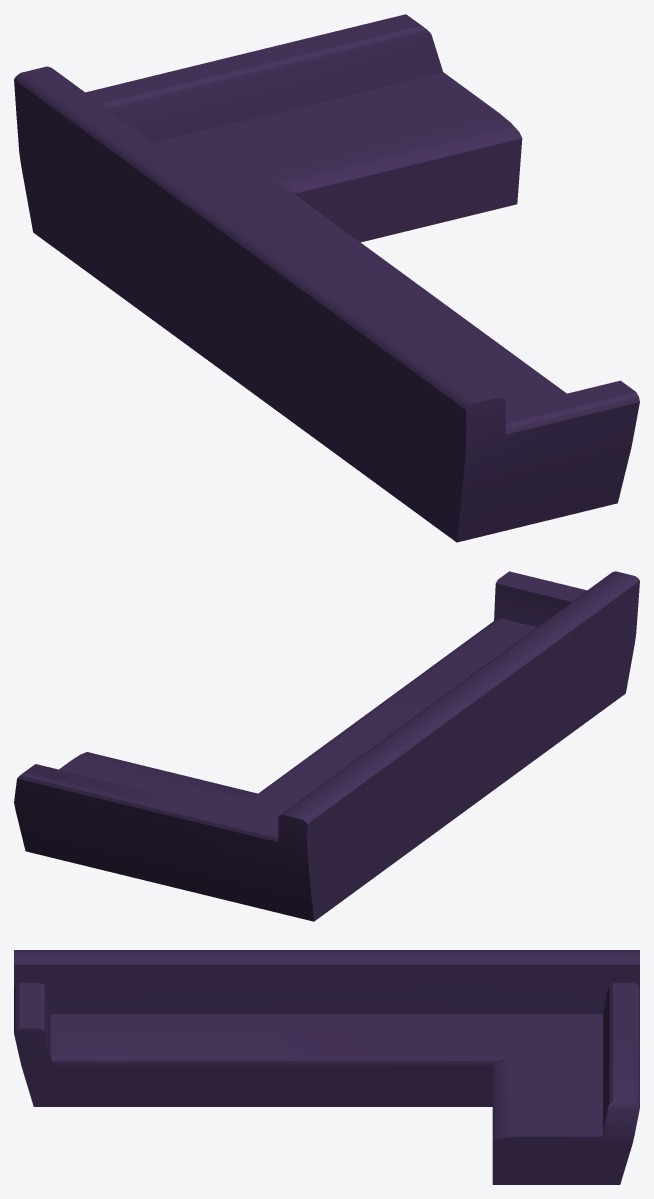
File: couch.fbx
3 views of the same model, one above another, from view 1: azimuth 30°, elevation 25°; view 2: azimuth 150°, elevation 25°; view 3: azimuth 270°, elevation 25° (orthographic). The views are drawn at different scales.
Visible parts, largest first — view 1: Couch; view 2: Couch; view 3: Couch.
Part boxes in pixels (x1,y1,x2,y2): Couch: [14, 14, 639, 542]; Couch: [14, 571, 639, 921]; Couch: [14, 950, 639, 1184].
Size of the model in its own units: 208 by 404 by 73.34.
